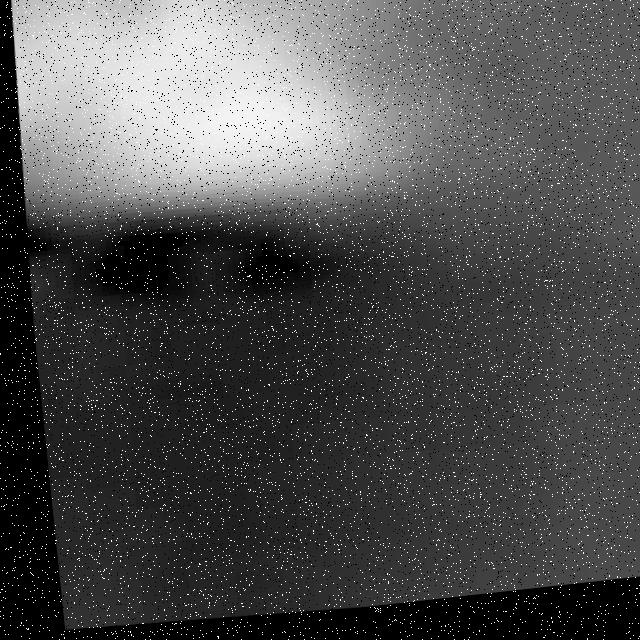person: (4, 1, 506, 242)
